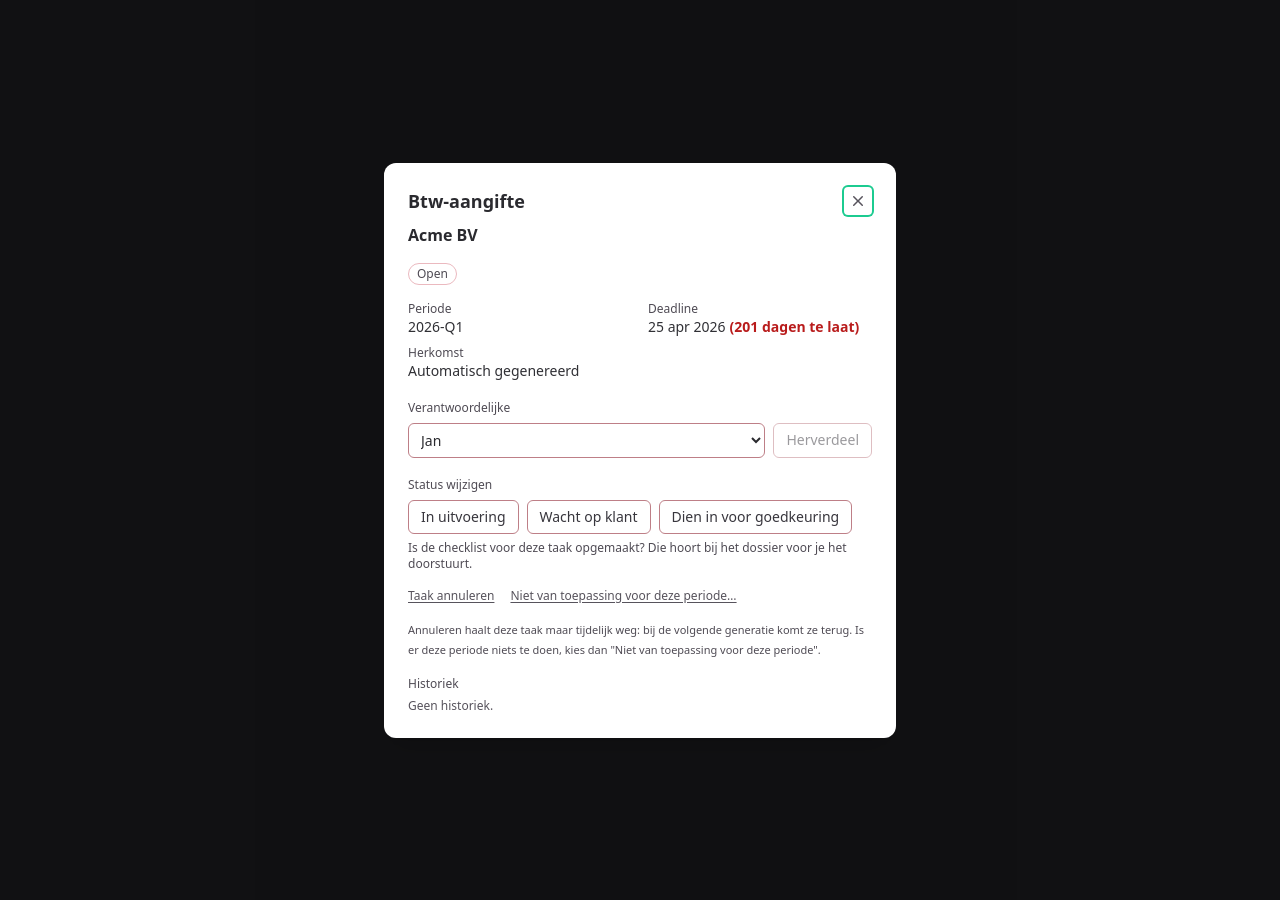
Test case: TaskDetailModal — niet van toepassing › vraagt eerst een reden en houdt de knop dicht tot die er is
This screenshot has width=1280, height=900.
Click the button "Niet van toepassing voor deze periode…" at (624,596), box [510, 588, 737, 604]
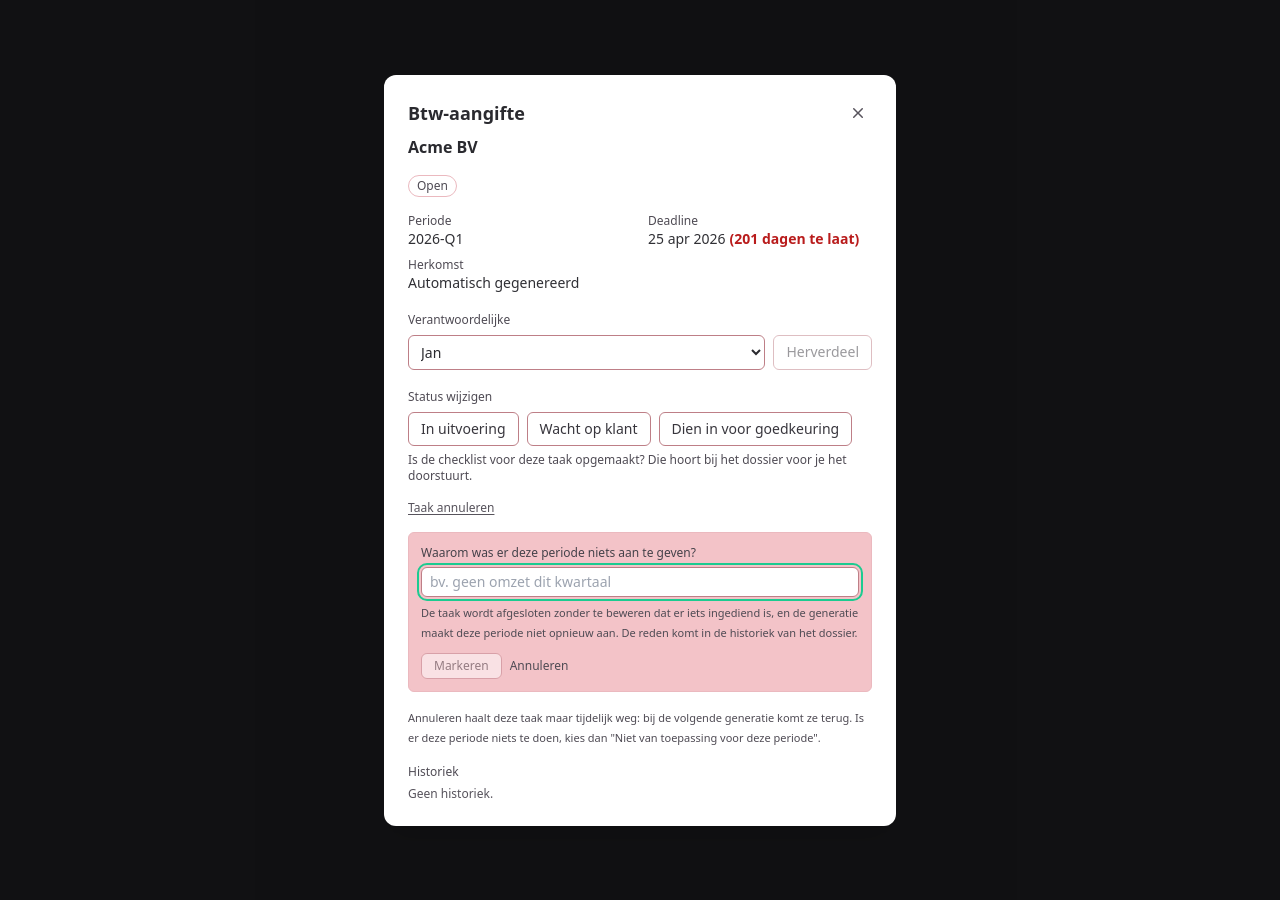
Now the button "Markeren" is disabled, box [421, 652, 502, 678]
Type "Geen omzet" into the field labelled "Waarom was er deze periode niets aan te geven?" at (640,582), box [421, 566, 859, 596]
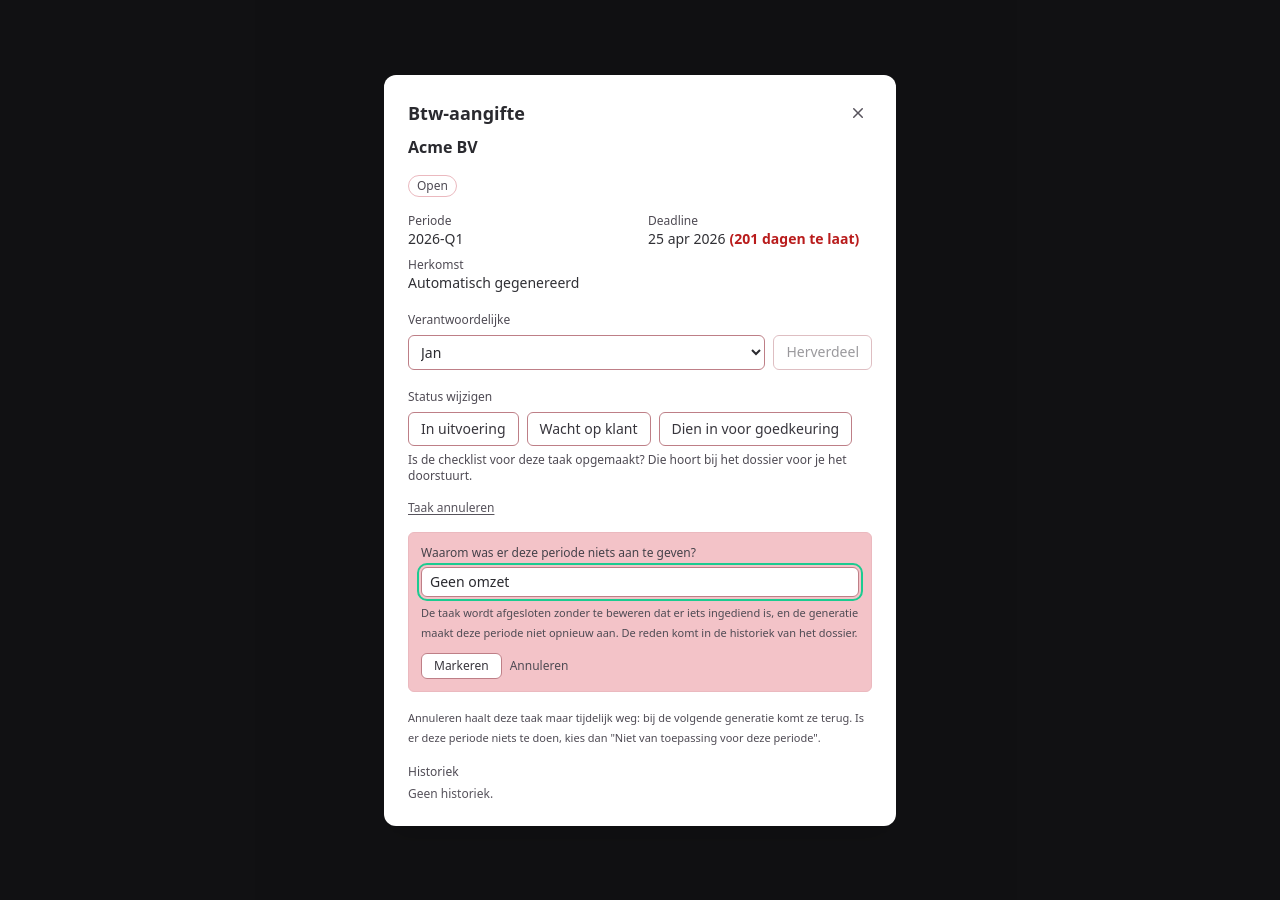
Now the button "Markeren" is enabled, box [421, 652, 502, 678]
